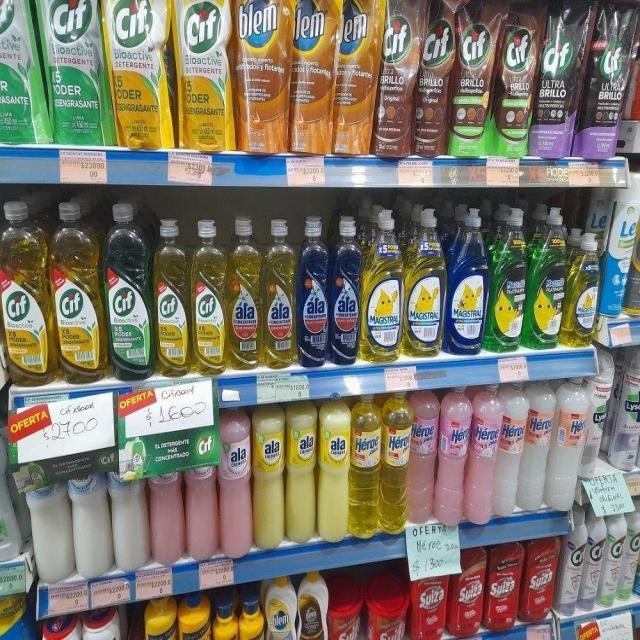ala_conc_amarillo: (228, 215, 262, 370), (263, 217, 296, 369)
ala_conc_azul: (297, 213, 329, 368), (330, 214, 361, 367)
ala_crem_amarillo: (253, 406, 284, 551), (318, 399, 349, 543), (286, 402, 316, 544)
ala_crem_rosado: (219, 411, 251, 558)
cif_conc_bot_amarilla: (51, 198, 103, 383), (1, 197, 48, 385), (154, 216, 190, 376), (191, 216, 226, 374)
cif_conc_botella_verde: (106, 202, 152, 380)
cif_conc_sachet_amarillo: (108, 0, 170, 150), (176, 0, 234, 152)
cif_conc_sachet_verde: (46, 0, 104, 146), (0, 0, 45, 145)
drive: (236, 0, 290, 154)
heroe: (350, 394, 380, 538), (381, 390, 409, 534), (409, 390, 436, 526)
magistral_con_amarillo: (362, 207, 403, 363), (404, 206, 445, 358), (568, 232, 600, 347)
magistral_con_azul: (446, 205, 487, 356)
